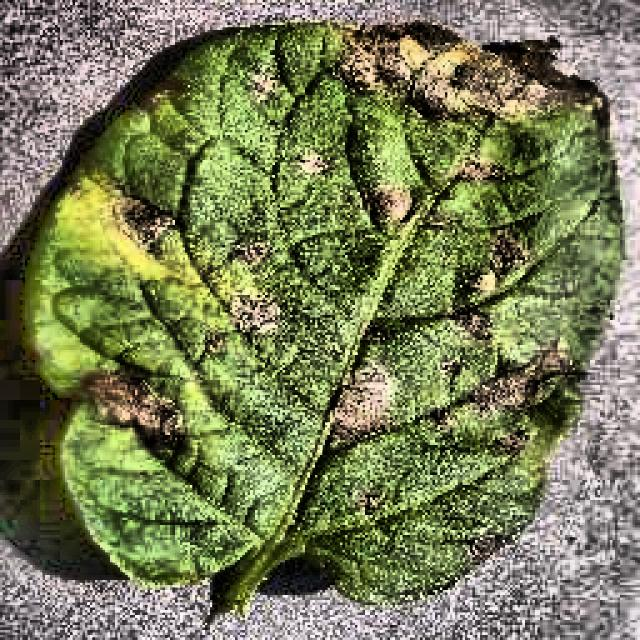Potato_leaf_early_blight: (25, 25, 620, 608)
